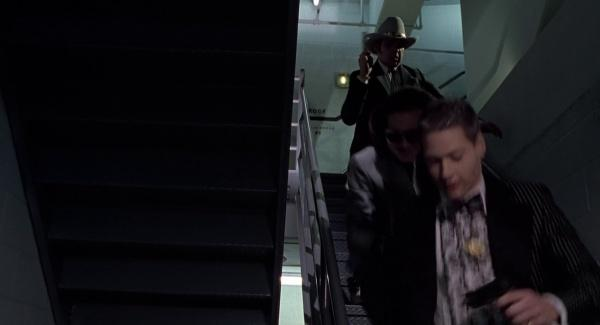Gun: (466, 275, 514, 311), (362, 32, 374, 69)
